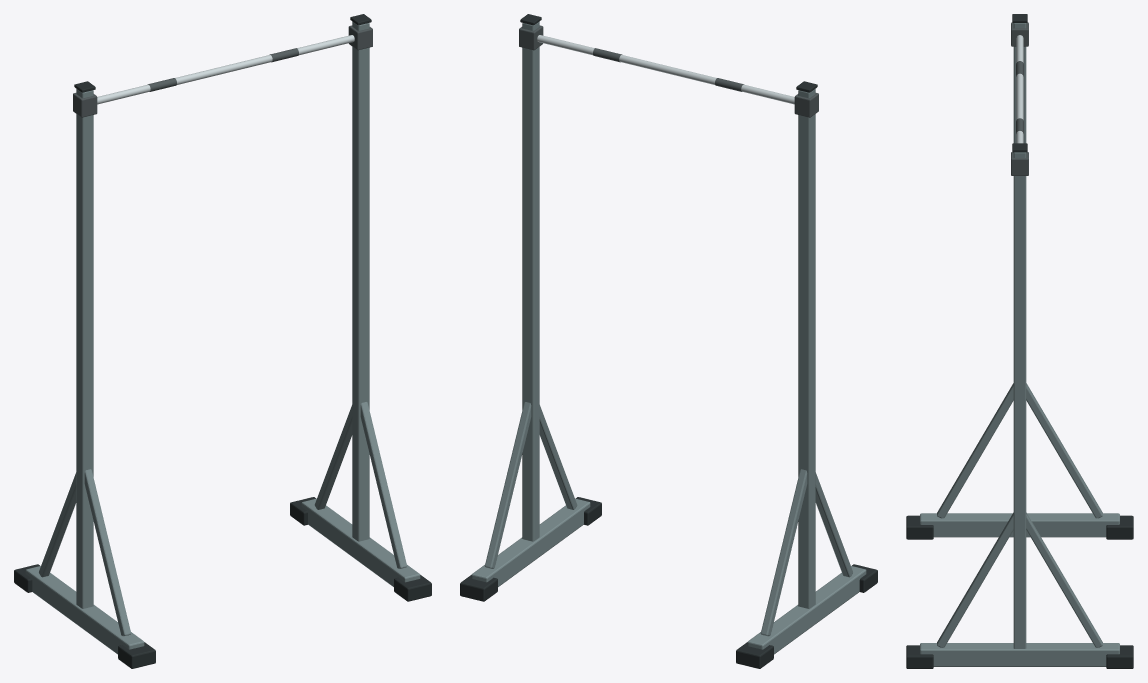
The model's file is pull-up-bar.v1.glb.
3 views of the same model, side by side, from view 1: azimuth 30°, elevation 25°; view 2: azimuth 150°, elevation 25°; view 3: azimuth 270°, elevation 25° (orthographic). The views are drawn at different scales.
Parts seen in each view (by area): view 1: Base runner, Floor shoe, Pull-up bar, Bar bracket; view 2: Base runner, Floor shoe, Pull-up bar, Bar bracket; view 3: Base runner, Floor shoe, Bar bracket, Pull-up bar.
Boxes of the visible parts, <box> form: Base runner: <box>25,21,420,654</box>; Floor shoe: <box>14,14,431,668</box>; Pull-up bar: <box>97,35,354,104</box>; Bar bracket: <box>73,25,372,117</box>; Base runner: <box>471,21,866,654</box>; Floor shoe: <box>460,14,877,668</box>; Pull-up bar: <box>537,35,794,104</box>; Bar bracket: <box>519,25,818,117</box>; Base runner: <box>920,23,1119,666</box>; Floor shoe: <box>906,14,1133,668</box>; Bar bracket: <box>1011,22,1028,175</box>; Pull-up bar: <box>1016,35,1023,143</box>.
Size of the model in its own units: 2.07 by 3.54 by 1.41.
